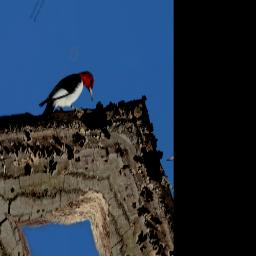Woodpecker: (30, 42, 107, 153)
